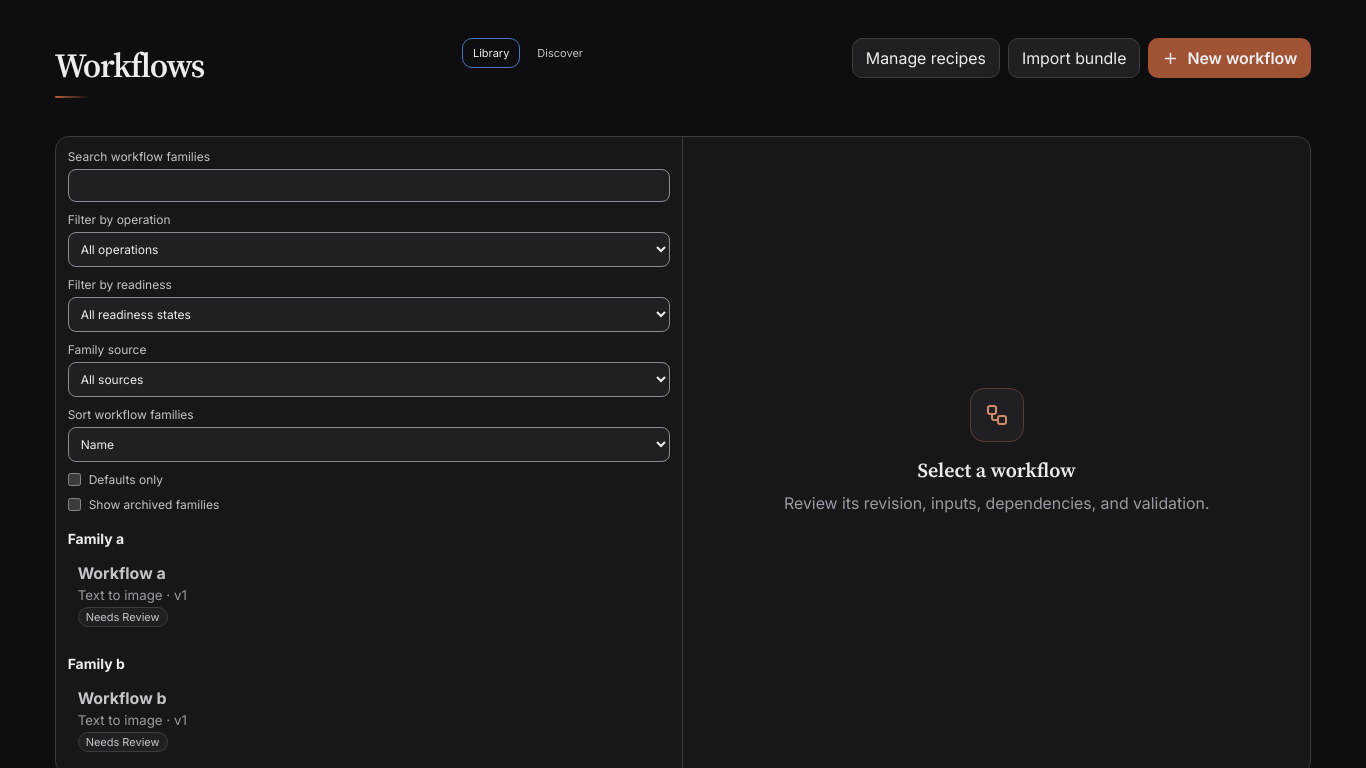
Test: archiving workflow families from the page › opens the selected family, confirms its impact, and refreshes the consuming surfaces
Click the text "Workflow b": (122, 698) x1=78 y1=688 x2=166 y2=708
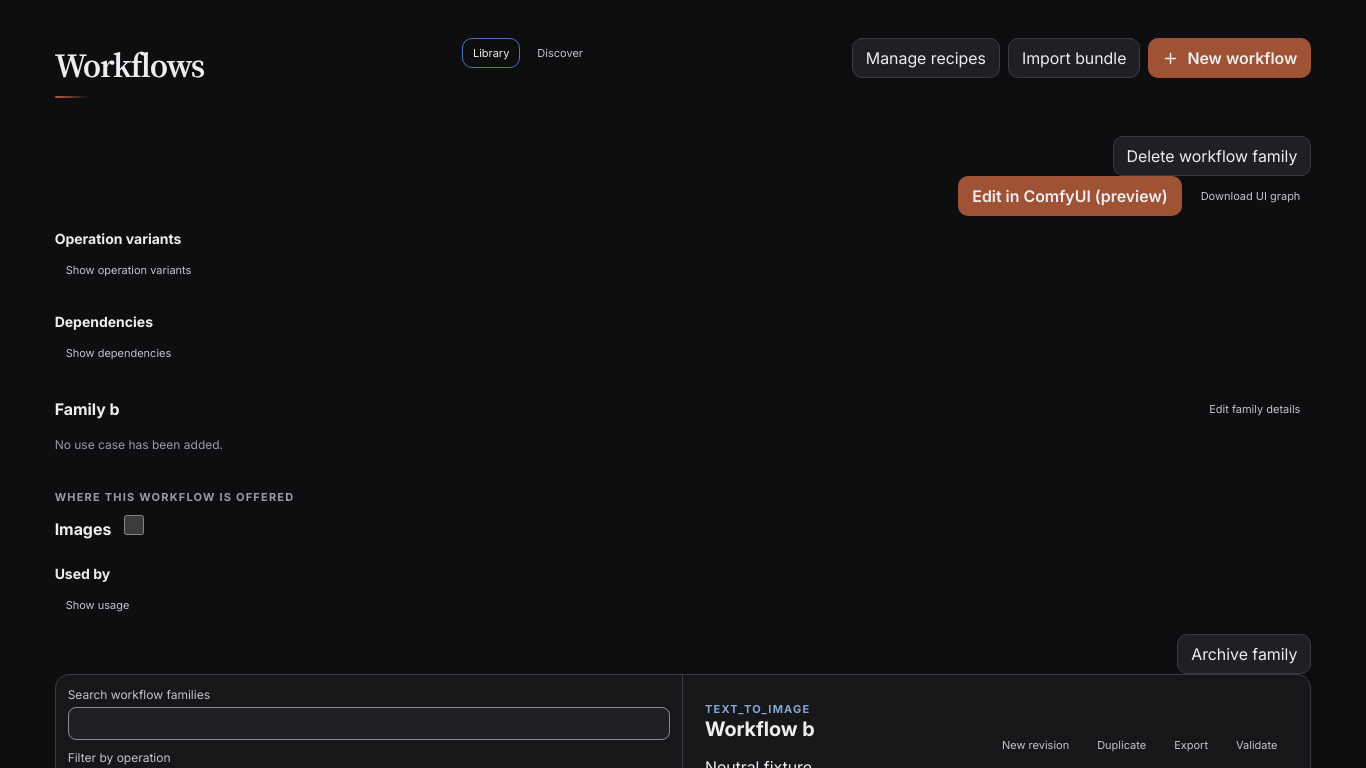
Check: the button "New revision" is shown, box x1=991 y1=730 x2=1080 y2=760
Click the button "Archive family": (1244, 654) x1=1177 y1=634 x2=1311 y2=674
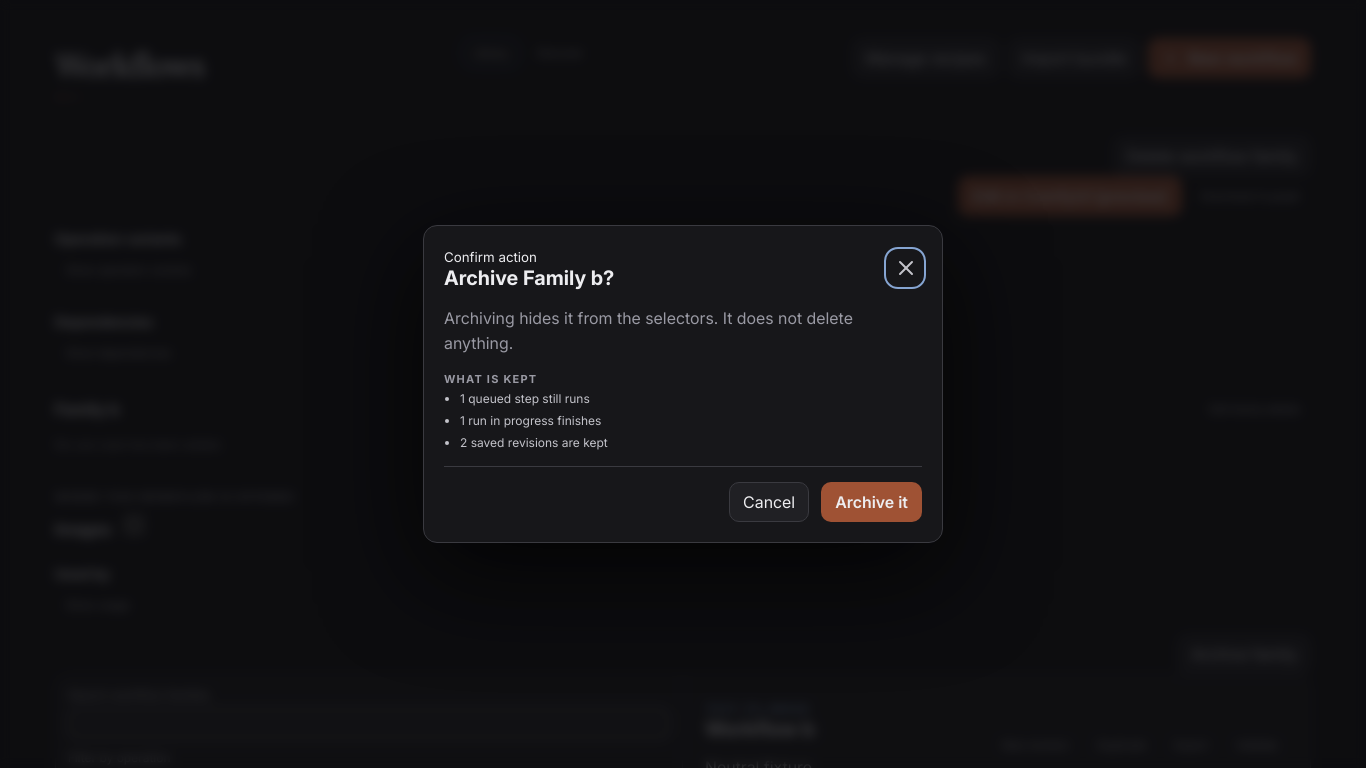
Check: the list item "1 queued step still runs" is shown, box x1=460 y1=391 x2=590 y2=406
Check: the list item "1 run in progress finishes" is shown, box x1=460 y1=413 x2=601 y2=428
Click the button "Archive it": (872, 502) x1=821 y1=482 x2=922 y2=522
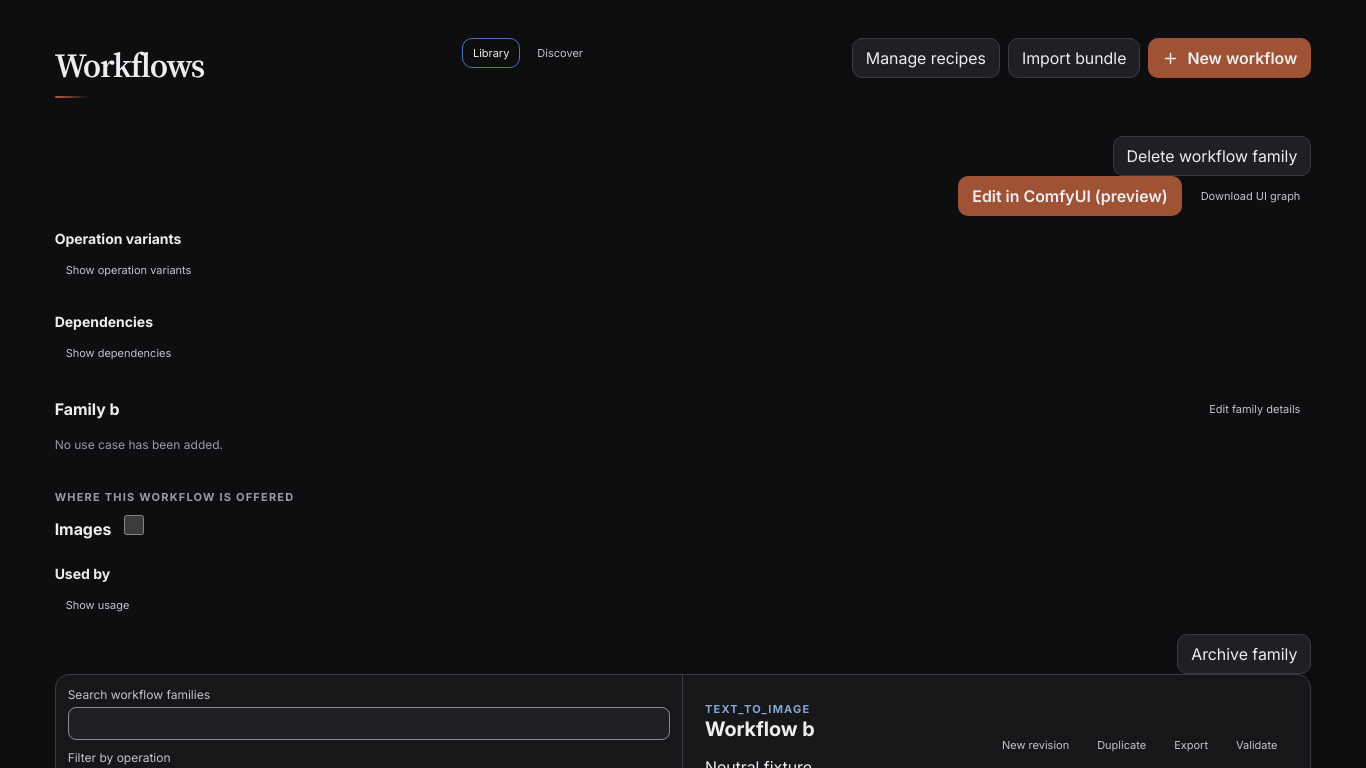
Check: the dialog is gone
